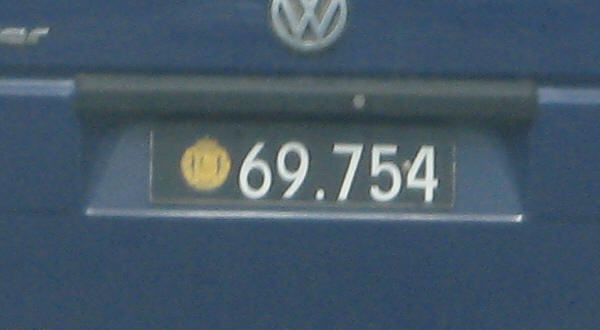license_plate: (148, 121, 456, 213)
